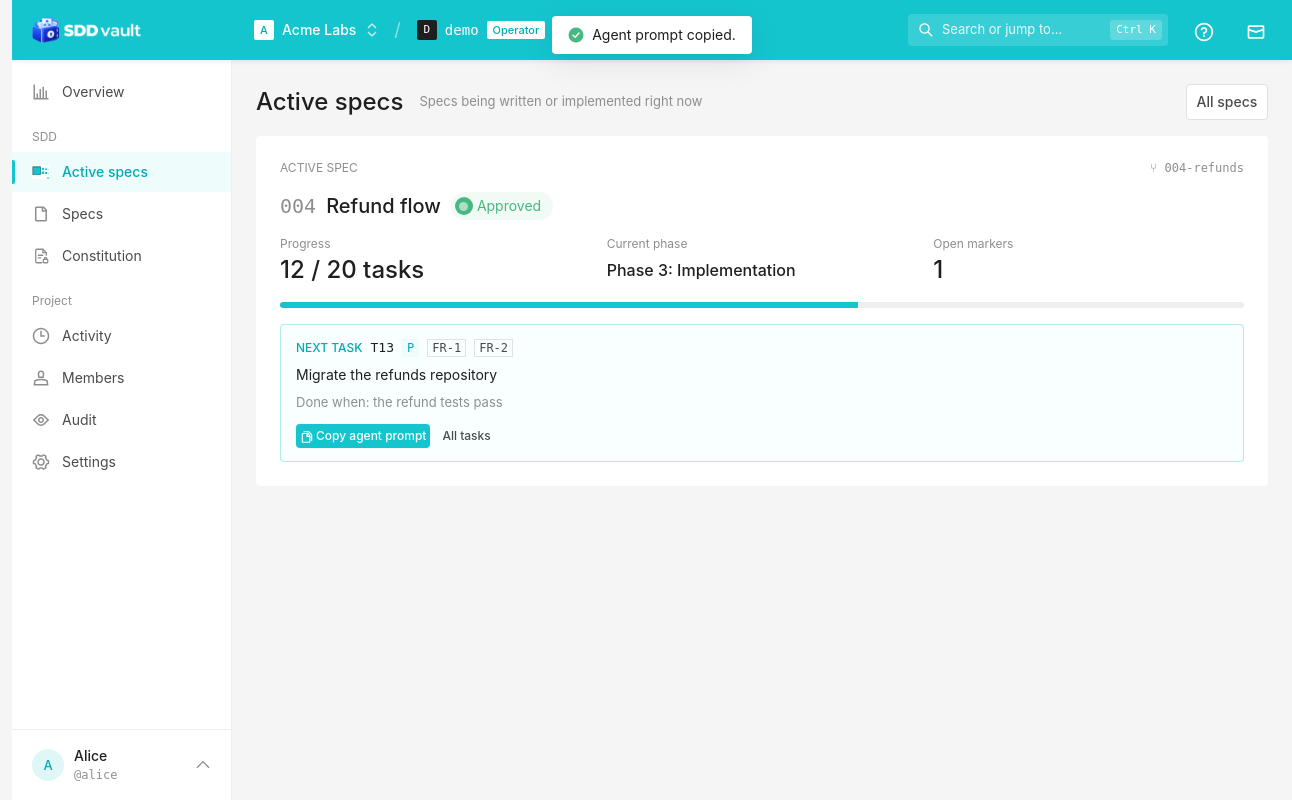
Scenario: a clipboard that refuses is reported instead of failing silently
Click the button "Copy agent prompt": (363, 436) [296, 424, 430, 448]
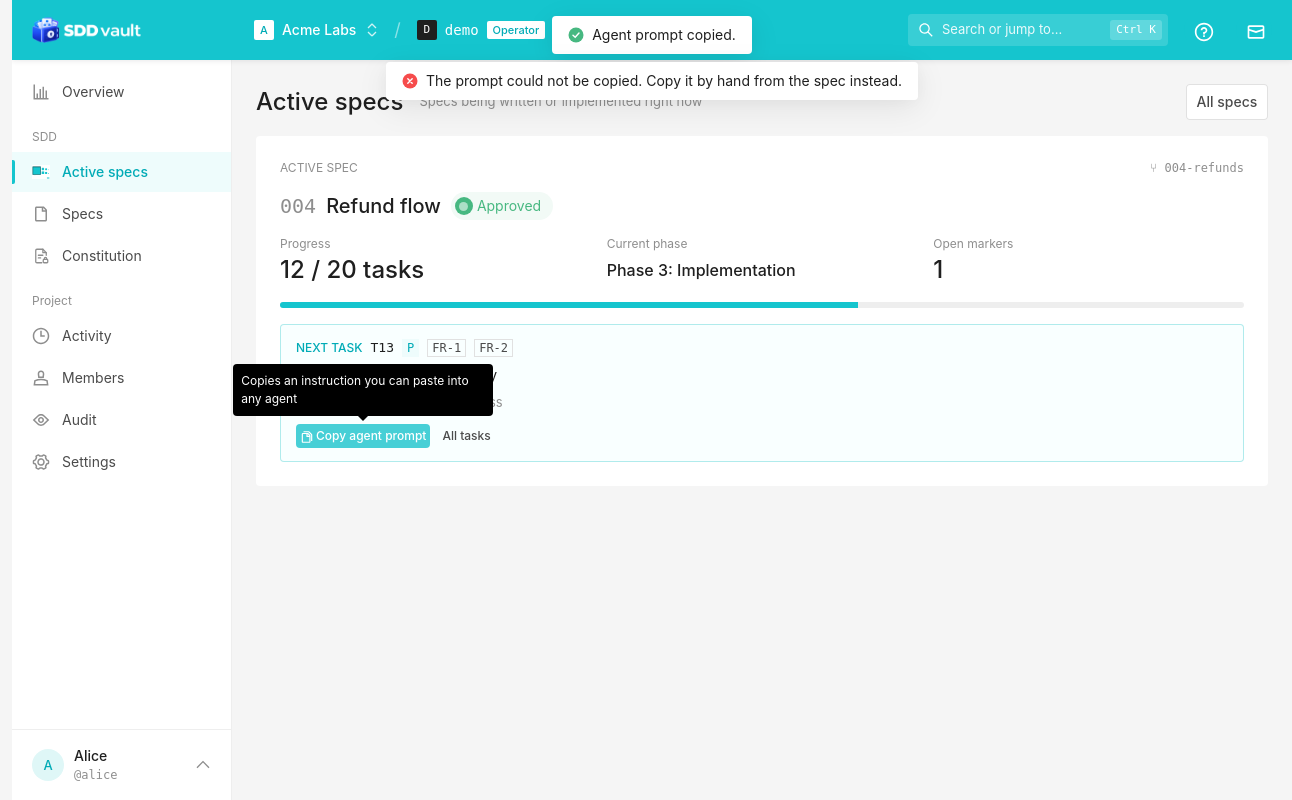
expect the text "The prompt could not be copied. Copy it by hand from the spec instead." is shown: met, box [386, 62, 918, 100]
